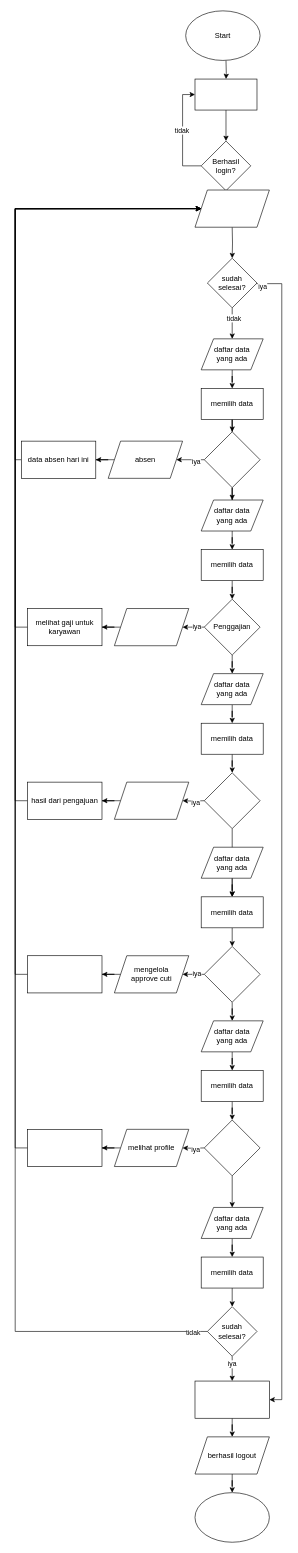
The diagram is 298 pixels wide and 1553 high, and some of its shapes have lost their labels. The shapes that lost their labels are listed below. From the top down, each one's centre as x and y in pixels, then its label:
At point (225, 94): "Login".
At point (231, 208): "Dashboard".
At point (232, 459): "absensi".
At point (151, 627): "melihat penggajian".
At point (151, 800): "mengajukan cuti".
At point (232, 800): "cuti".
At point (64, 974): "manajement approve cuti".
At point (232, 974): "approve cuti".
At point (64, 1148): "melihat data karyawan".
At point (232, 1147): "profile".
At point (231, 1399): "logout".
At point (231, 1517): "selesai".
